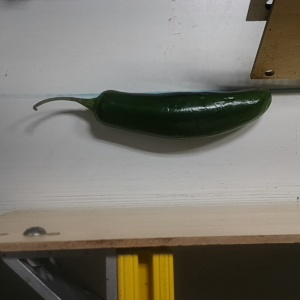Cut Point: (81, 87, 116, 126)
